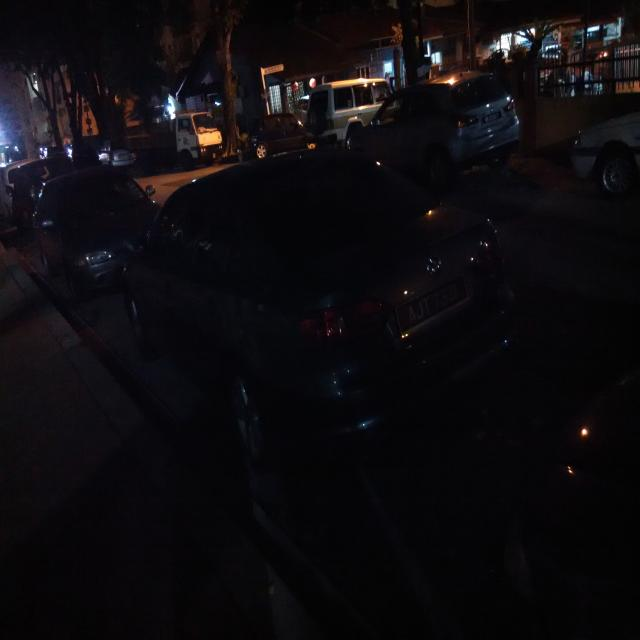Car: (144, 150, 515, 483), (29, 164, 155, 300)
